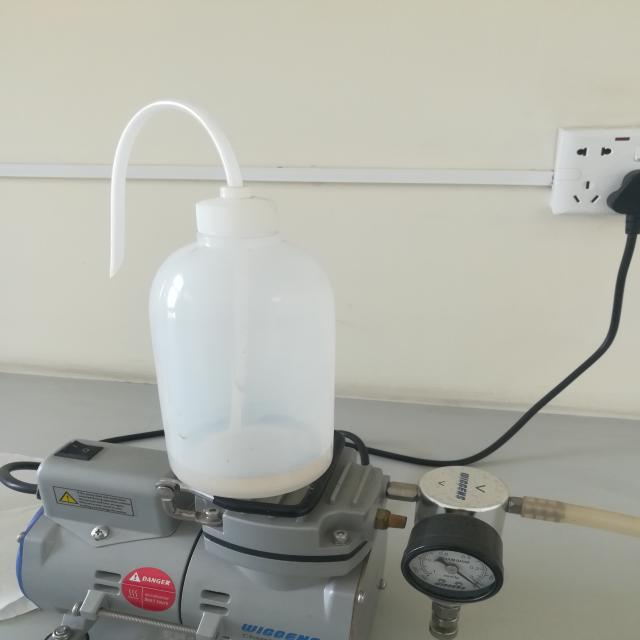Wash_Bottle: (71, 67, 372, 526)
